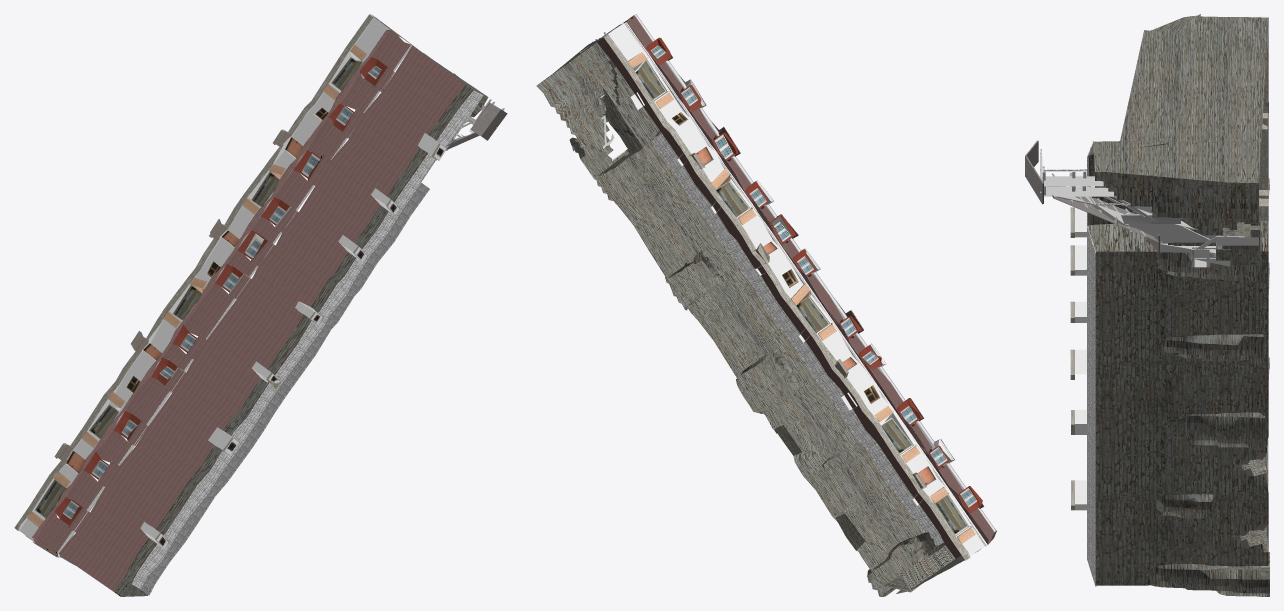
The model's file is Suurtyki_4c_2-origo.obj.
3 views of the same model, side by side, from view 1: azimuth 30°, elevation 25°; view 2: azimuth 150°, elevation 25°; view 3: azimuth 270°, elevation 25° (orthographic). The views are drawn at different scales.
Visible parts, largest first — view 1: _07_Suurtyki_4c_2_; view 2: _07_Suurtyki_4c_2_; view 3: _07_Suurtyki_4c_2_.
Part boxes in pixels (left/top/right/bottom): _07_Suurtyki_4c_2_: left=14, top=14, right=507, bottom=596; _07_Suurtyki_4c_2_: left=536, top=14, right=996, bottom=596; _07_Suurtyki_4c_2_: left=1025, top=14, right=1269, bottom=596.
Size of the model in its own units: 40.44 by 43.5 by 12.08.
